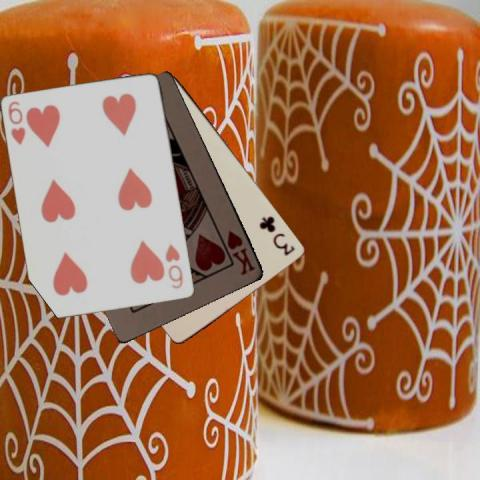3c: (256, 213, 297, 257)
6h: (162, 241, 184, 291), (6, 98, 28, 147)
Kh: (224, 228, 257, 278)
